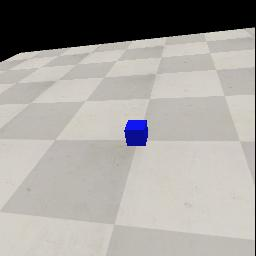box: (124, 120, 148, 146)
